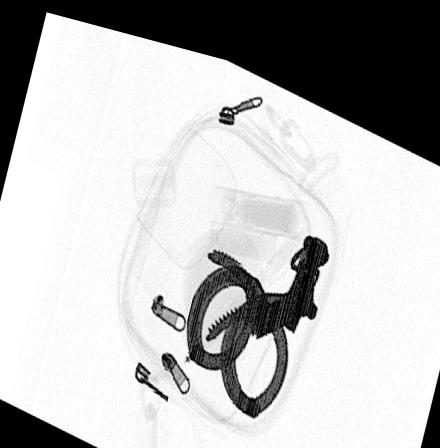HandCuffs: (183, 213, 328, 407)
